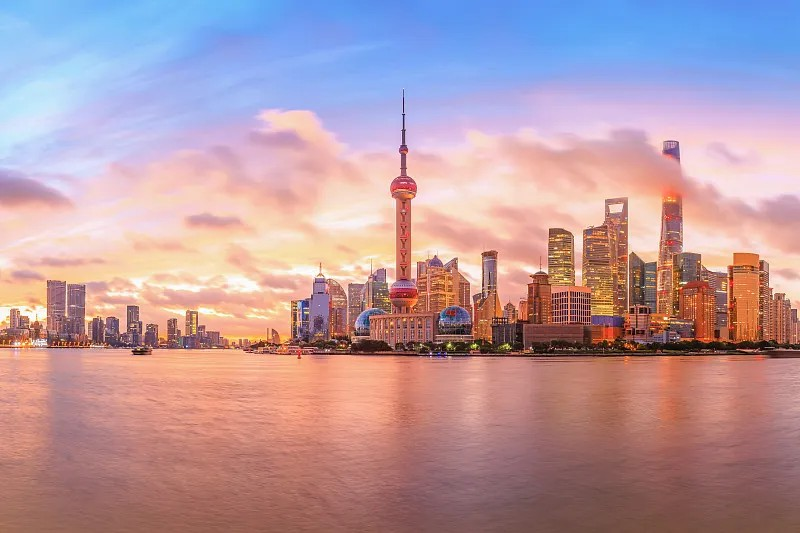Oriental: (389, 89, 418, 314)
